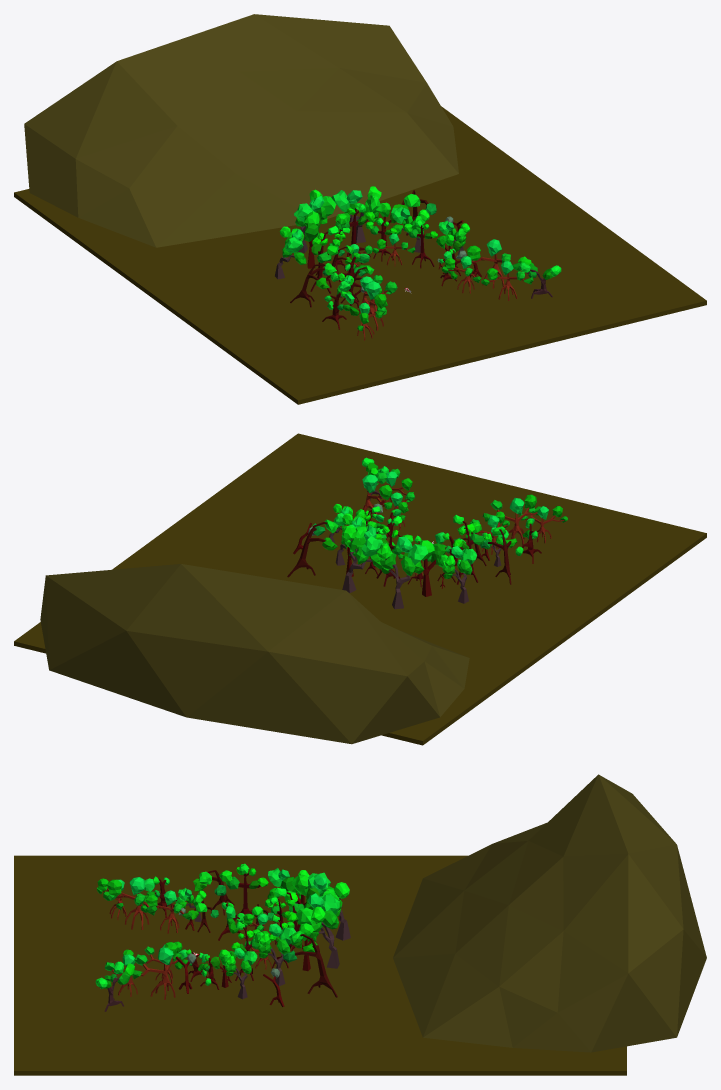
File: water.dae
3 renders of one model, top to bottom at view 1: azimuth 30°, elevation 25°; view 2: azimuth 150°, elevation 25°; view 3: azimuth 270°, elevation 25°, orthographic. The views are drawn at different scales.
Parts seen in each view (by area): view 1: Icosphere, Cube, tree3, tree2, tree1, tree4, tree6, tree7, tree5; view 2: Cube, Icosphere, tree3, tree2, tree1, tree6, tree7, tree4, tree5; view 3: Cube, Icosphere, tree2, tree3, tree1, tree4, tree6, tree5, tree7, remains.
Part boxes in pixels (bbox=[...]): Icosphere: bbox=[24, 14, 458, 247]; Cube: bbox=[14, 106, 706, 404]; tree3: bbox=[294, 189, 533, 300]; tree2: bbox=[275, 202, 470, 313]; tree1: bbox=[330, 218, 481, 330]; tree4: bbox=[290, 219, 561, 329]; tree6: bbox=[333, 203, 520, 304]; tree7: bbox=[326, 186, 415, 281]; tree5: bbox=[329, 206, 429, 340]; Cube: bbox=[14, 433, 706, 745]; Icosphere: bbox=[40, 564, 469, 744]; tree3: bbox=[287, 468, 483, 609]; tree2: bbox=[329, 504, 509, 603]; tree1: bbox=[355, 492, 540, 575]; tree6: bbox=[362, 472, 508, 586]; tree7: bbox=[342, 525, 455, 593]; tree4: bbox=[362, 457, 541, 584]; tree5: bbox=[335, 506, 568, 587]; Cube: bbox=[14, 855, 626, 1075]; Icosphere: bbox=[393, 774, 706, 1052]; tree2: bbox=[140, 868, 319, 999]; tree3: bbox=[104, 863, 350, 997]; tree1: bbox=[103, 877, 294, 987]; tree4: bbox=[95, 870, 260, 1011]; tree6: bbox=[132, 887, 304, 999]; tree5: bbox=[96, 878, 295, 986]; tree7: bbox=[244, 893, 339, 969]; remains: bbox=[175, 908, 284, 1006].
Size of the model in its own units: 194 by 264 by 57.42.
